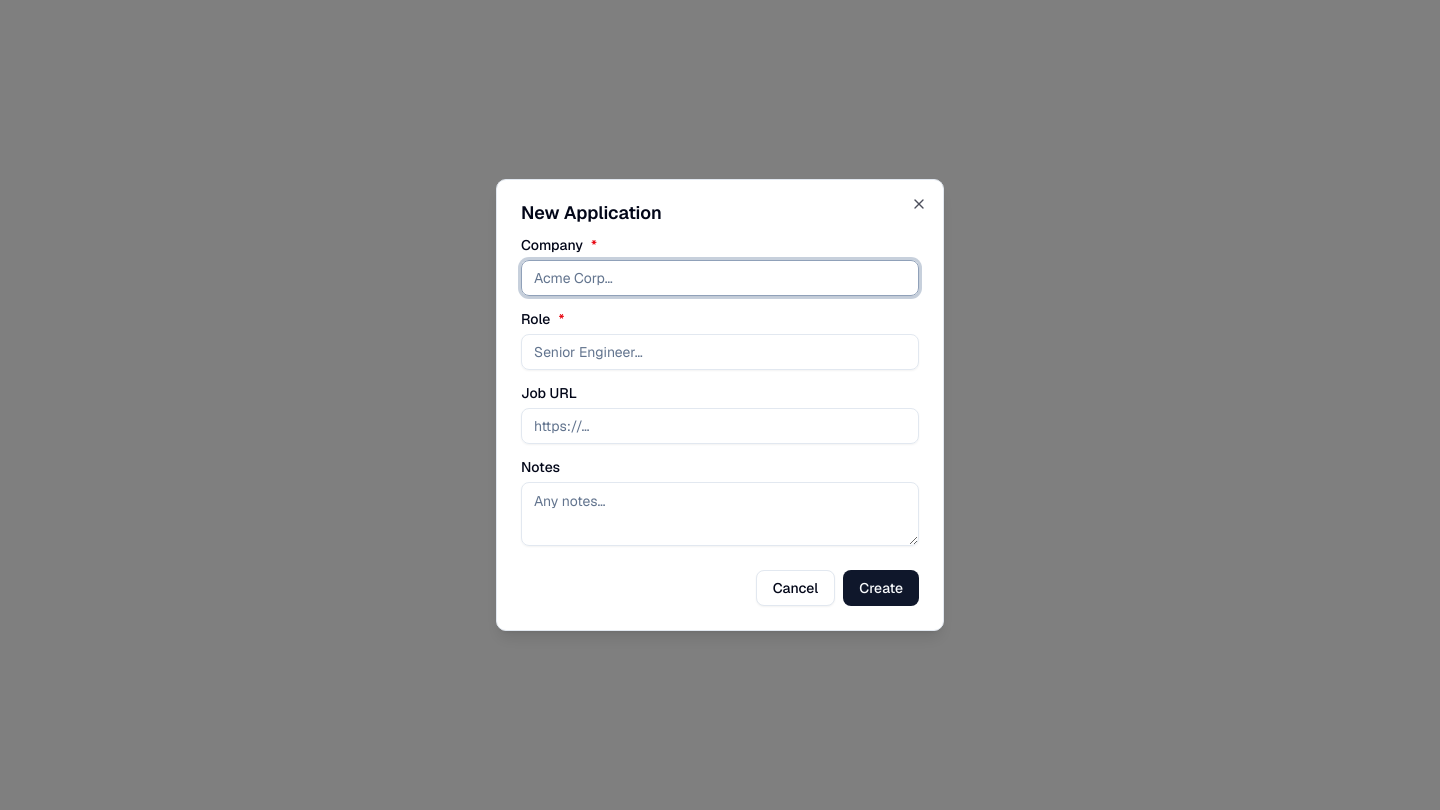
Test: CreateApplicationDialog › shows a pending label while the create request is in flight
This screenshot has width=1440, height=810.
In the field labelled "Company *": x=720, y=278 [521,260,919,296], type "Acme"
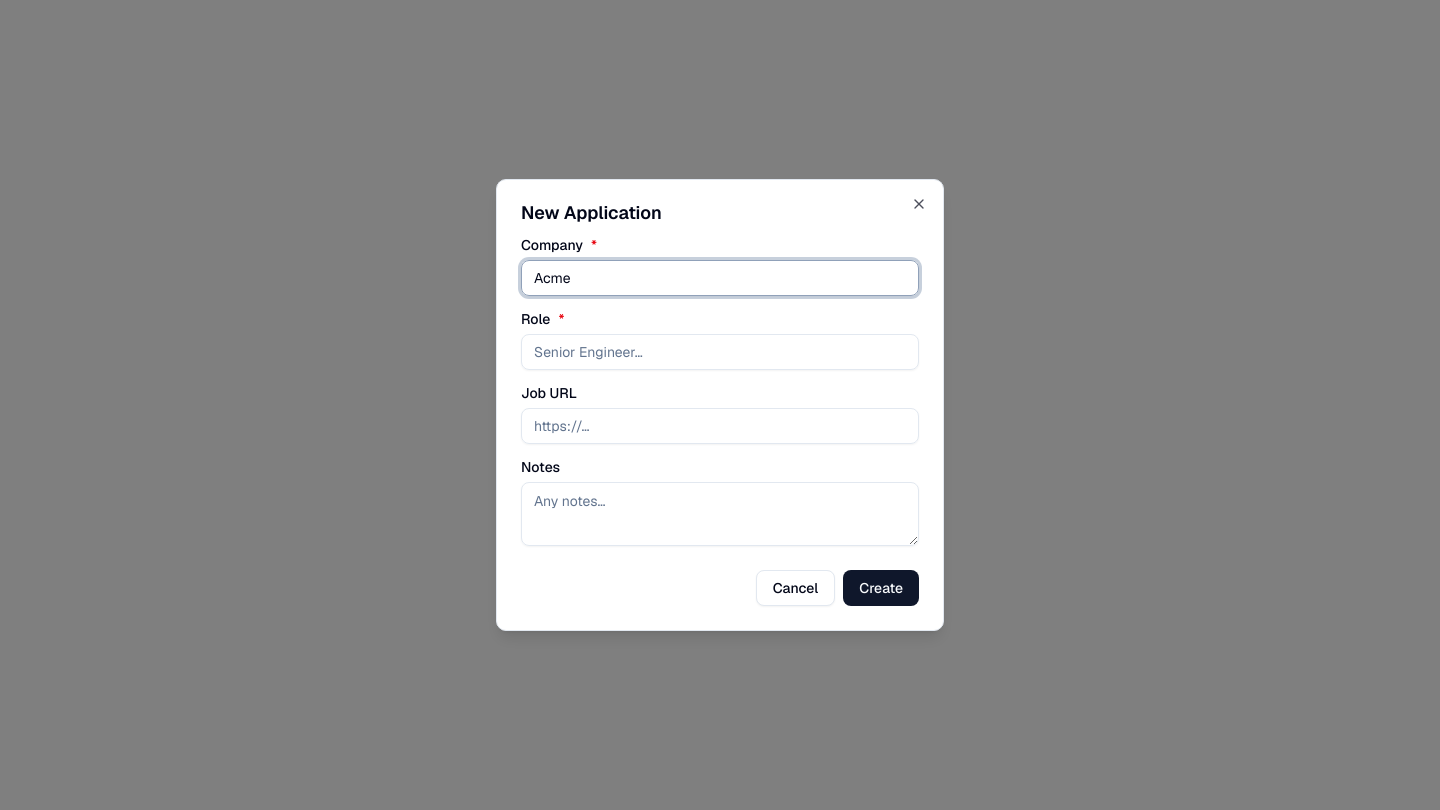
In the field labelled "Role *": x=720, y=352 [521,334,919,370], type "Engineer"
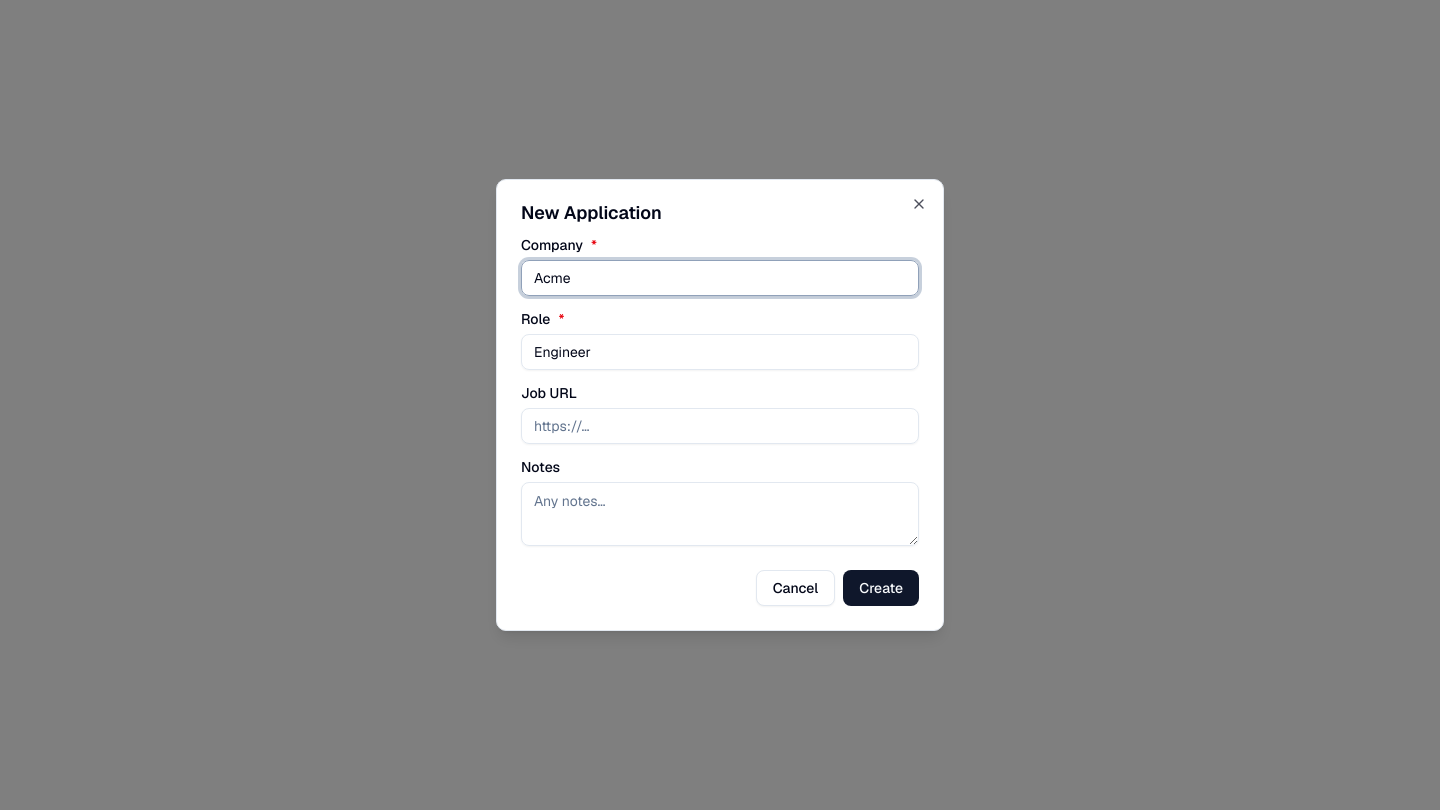
Click the button "Create": x=881, y=588 [843,570,919,606]
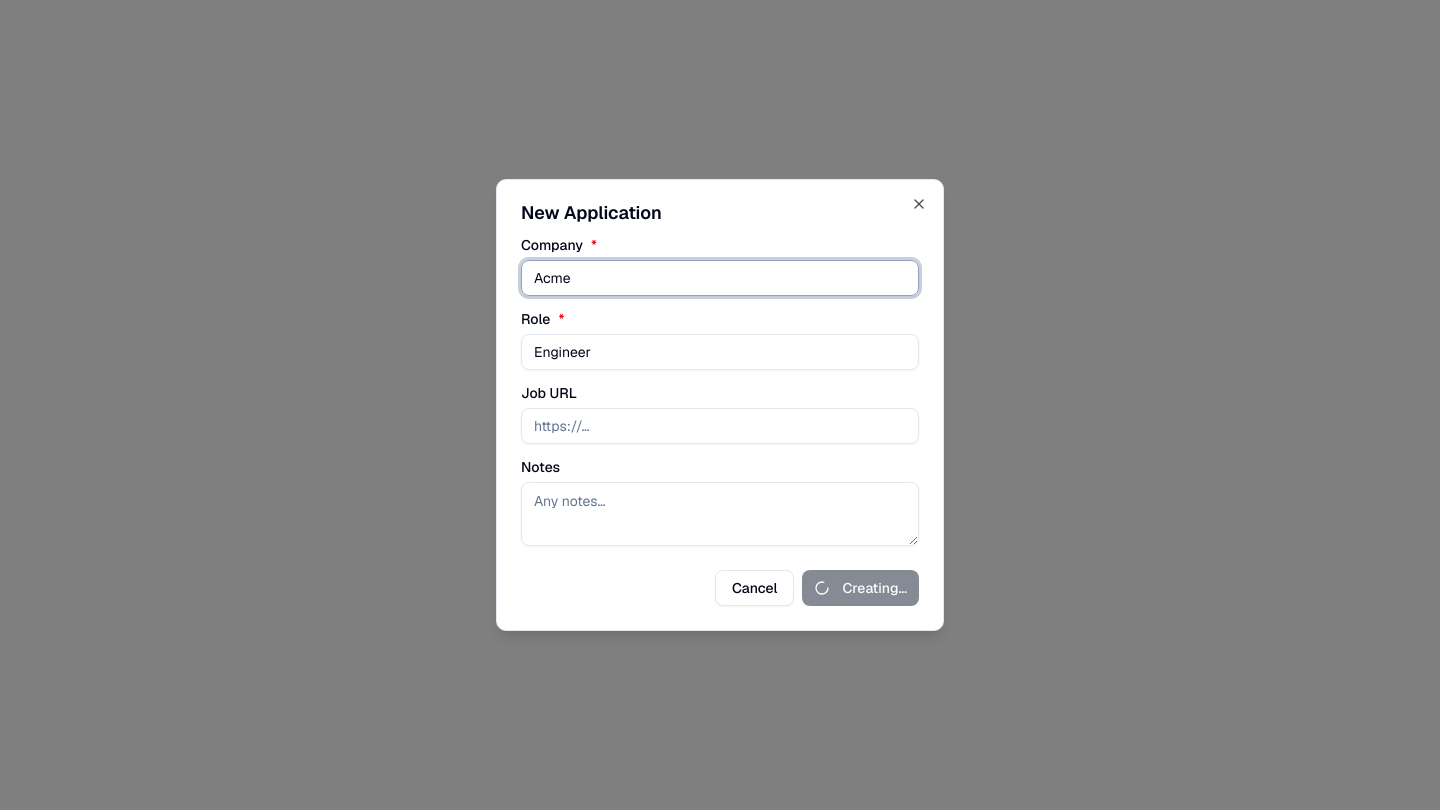
Expected: the button "Cancel" is enabled, [715,570,794,606]
Now the button "Creating…" is shown, box [802,570,919,606]
